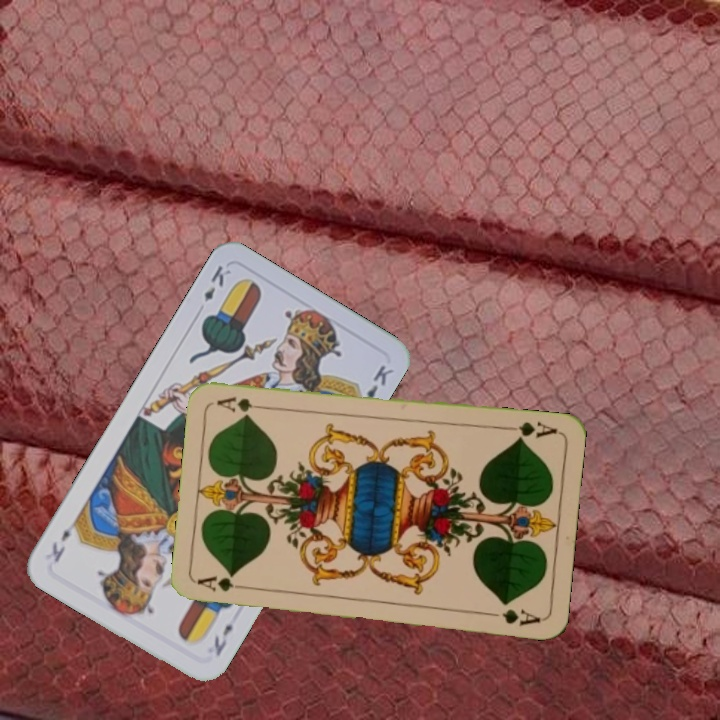EK: (200, 261, 234, 304), (209, 619, 236, 659)
GA: (501, 417, 560, 443), (194, 573, 254, 594)
